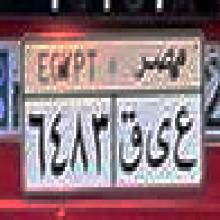3: (91, 107, 110, 177)
4: (48, 109, 68, 183)
6: (27, 106, 46, 181)
8: (69, 106, 89, 179)
ain: (173, 106, 197, 180)
qaaf: (118, 107, 142, 177)
yaa: (144, 113, 172, 174)
